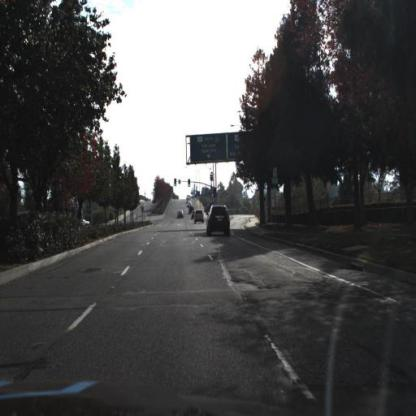car: (207, 205, 231, 237), (194, 206, 207, 229), (195, 210, 205, 224), (177, 210, 185, 220), (82, 219, 91, 227)
trafficLight-Green: (174, 179, 179, 188), (189, 180, 193, 189)
